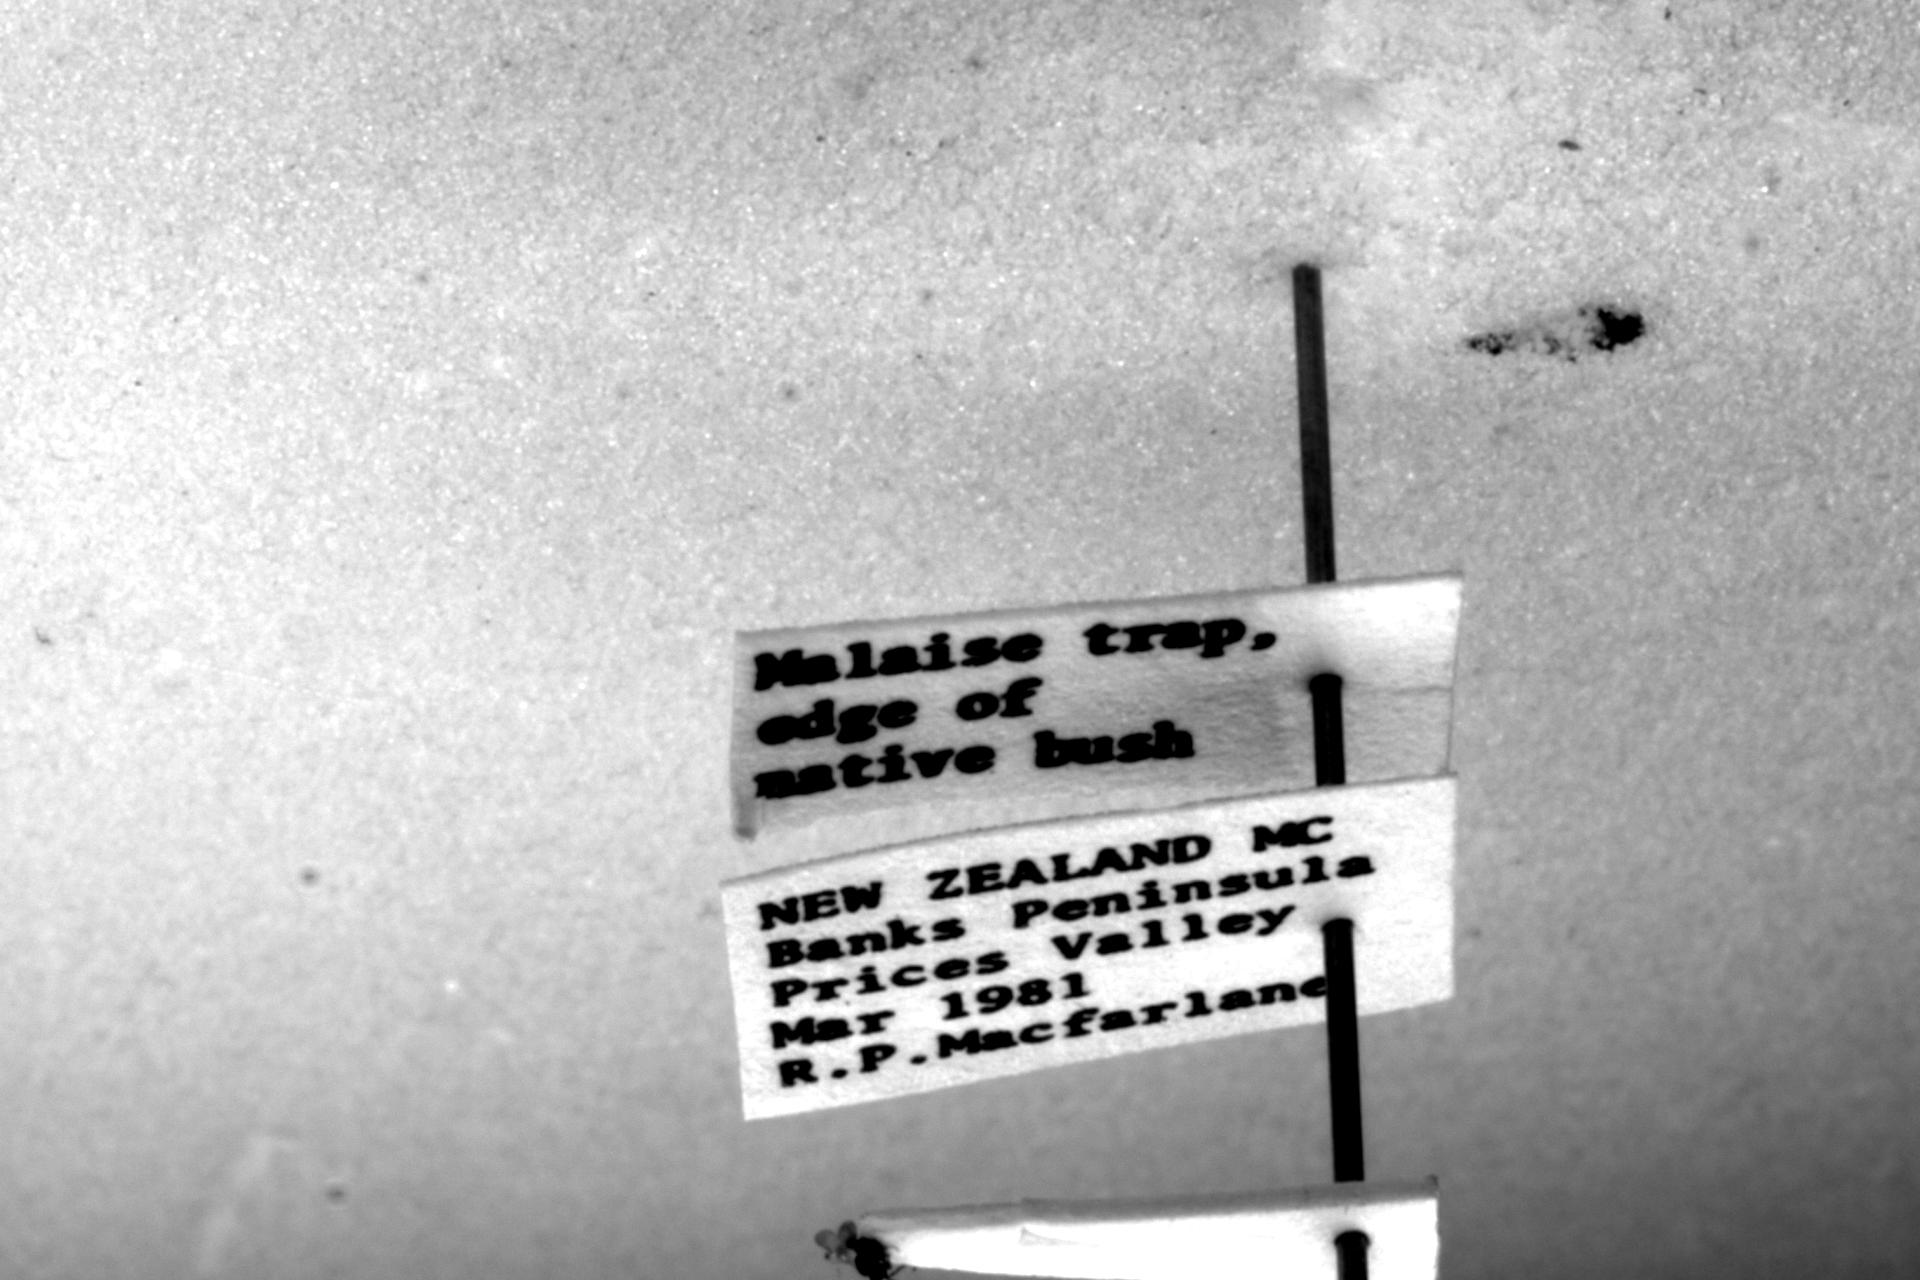typed_label: (724, 776, 1455, 1118), (731, 574, 1462, 836)
